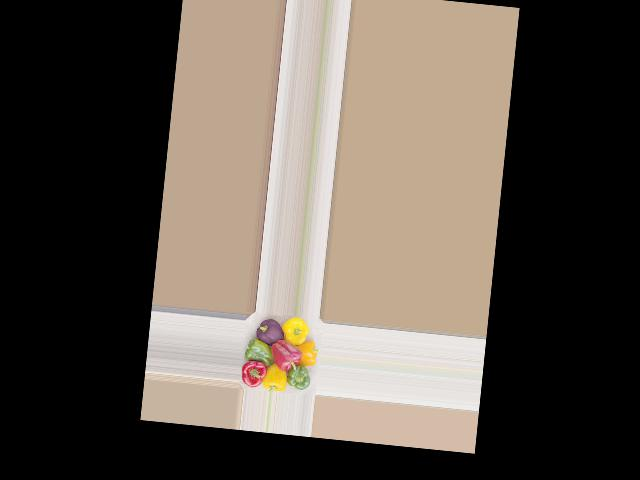bell_pepper: (247, 318, 285, 351)
